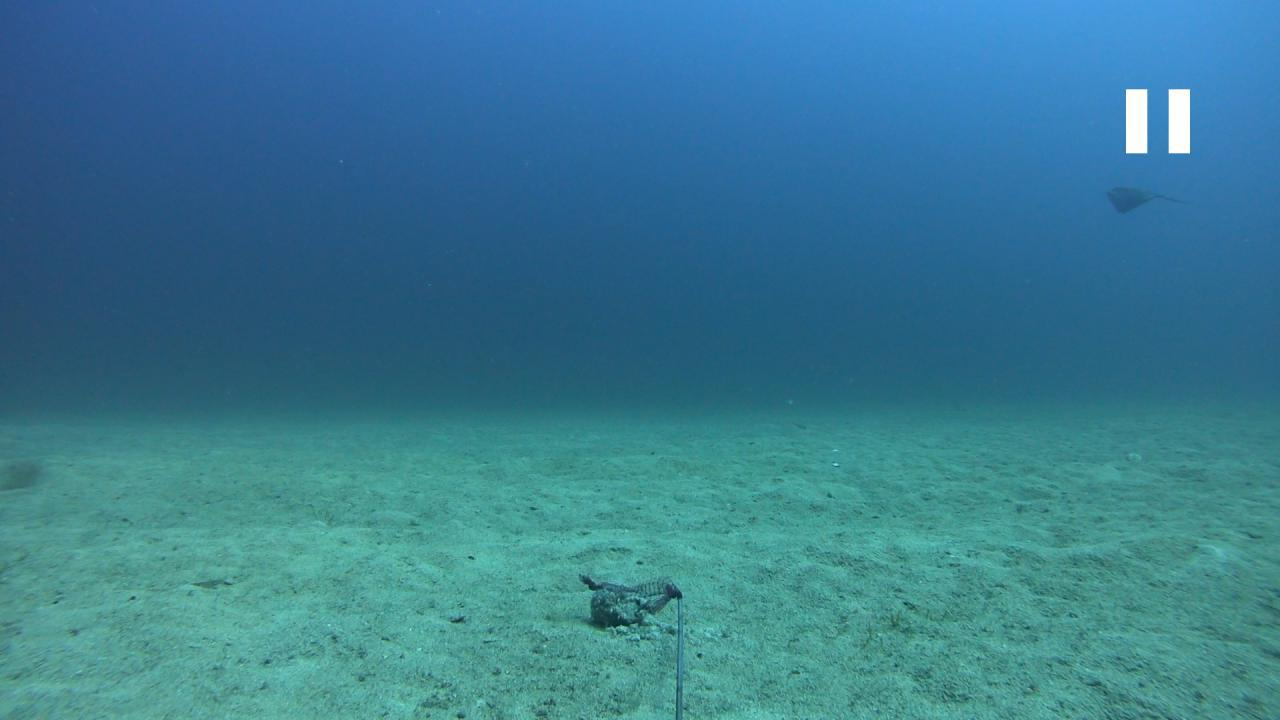dasyatis: (1104, 184, 1187, 216)
